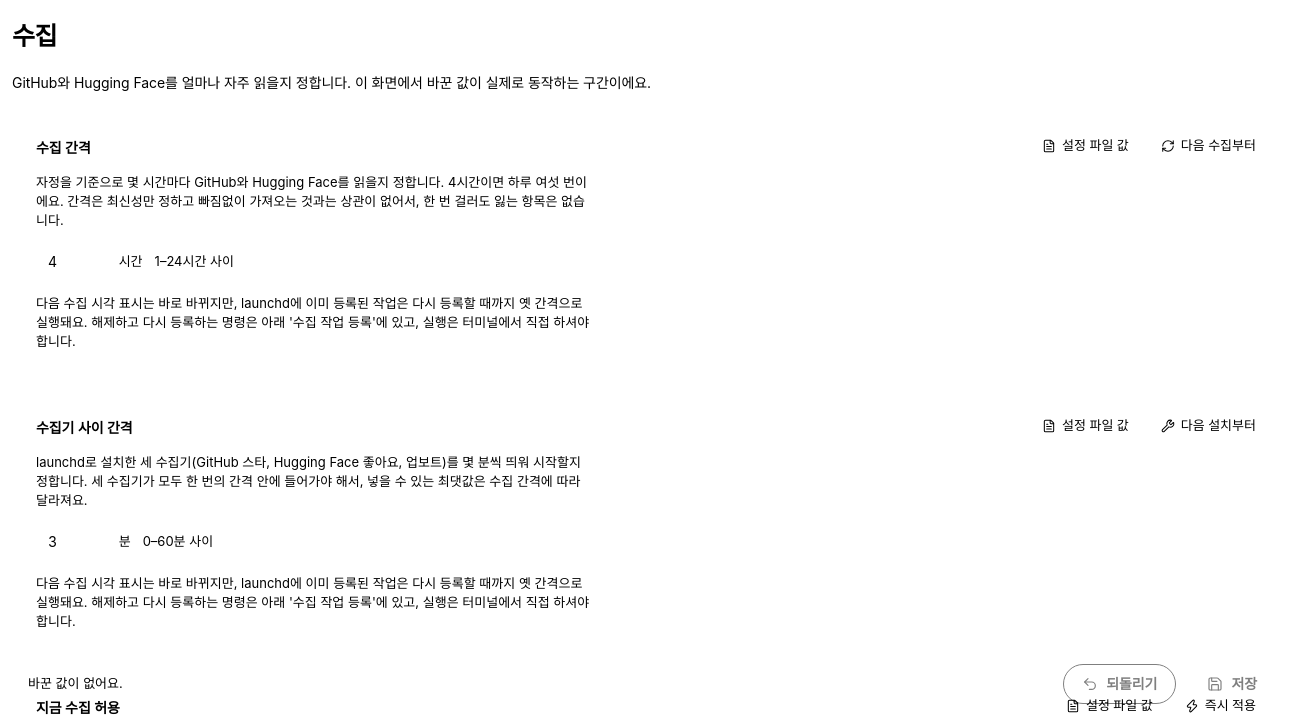
Test case: Saving › says a change is unsaved while it is still only typed in
Replace the text in the number field labelled "수집 간격" with "6" at (71, 262), box [36, 242, 107, 282]
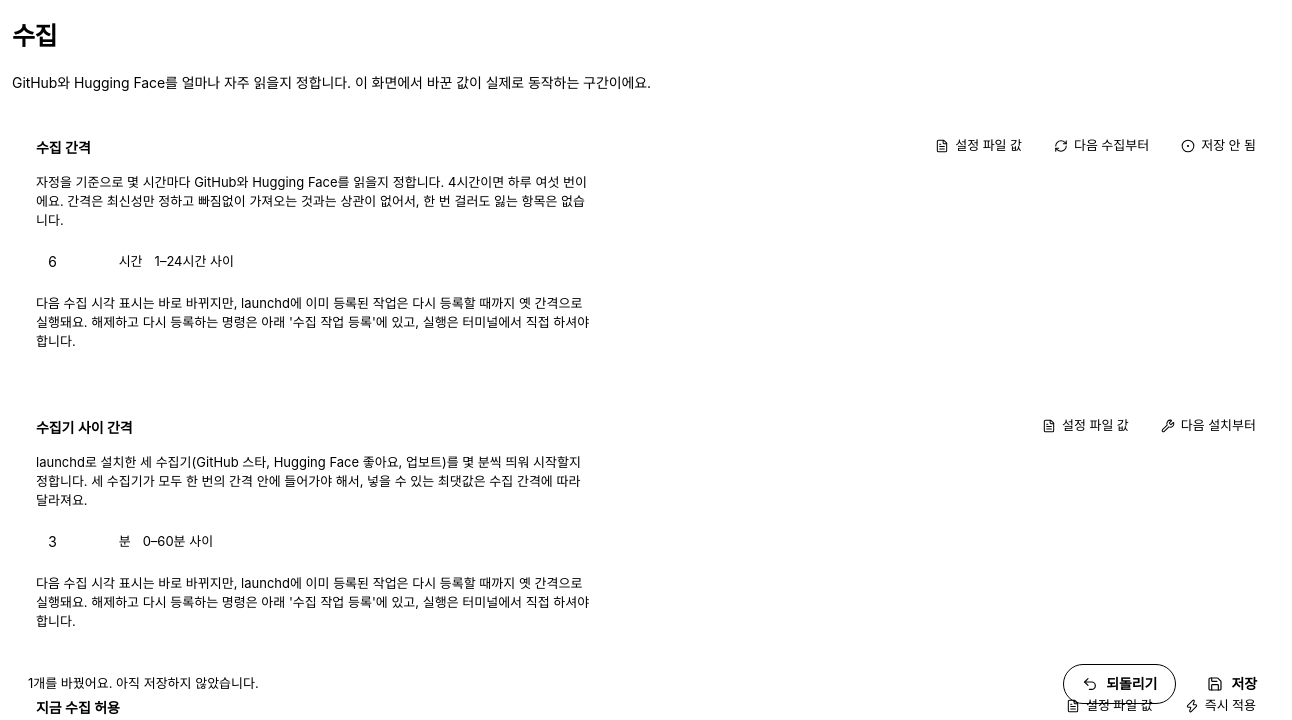
Expected: the text "저장 안 됨" is shown, [1181, 137, 1256, 153]
